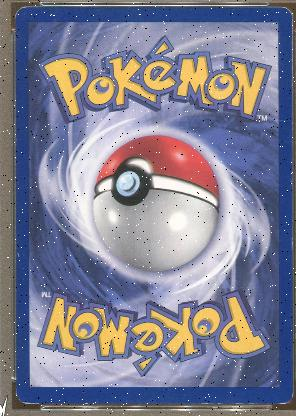Card: (14, 6, 294, 406)
Corner Wear: (15, 388, 41, 406), (277, 390, 292, 404), (281, 6, 292, 16)
Edge Wear: (177, 402, 284, 404), (14, 6, 25, 20), (289, 235, 291, 252), (82, 402, 88, 404)
Scratch: (277, 140, 290, 142), (79, 390, 85, 394), (16, 252, 19, 258), (228, 8, 236, 10), (276, 119, 284, 121), (286, 178, 290, 182)
